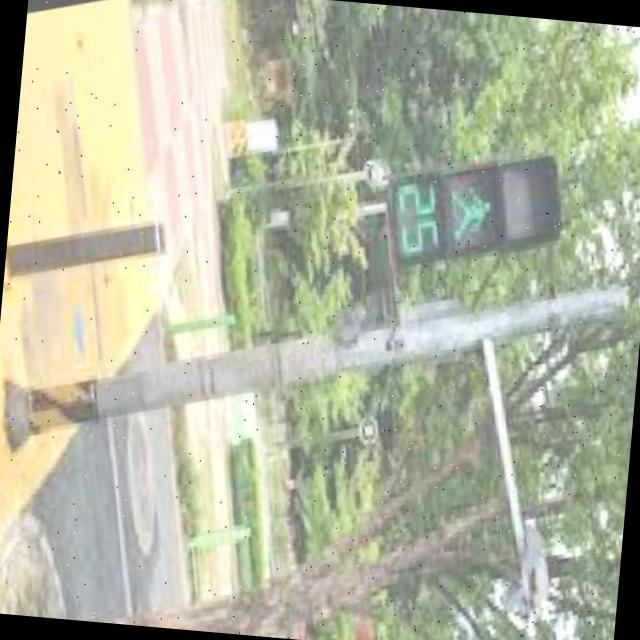green_light: (390, 163, 510, 263)
